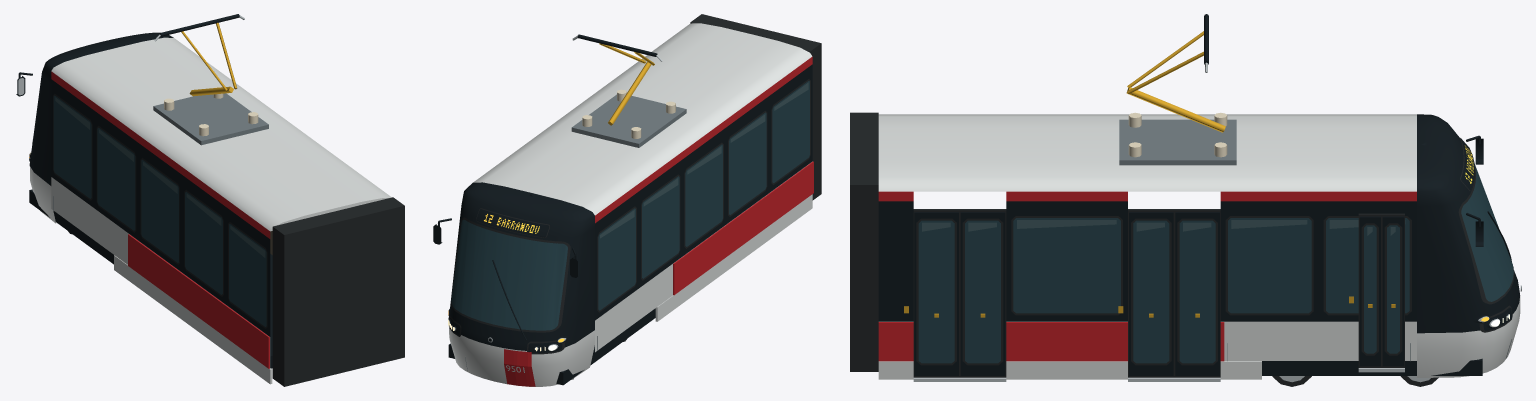
The model's file is 52t-a-viewer.glb.
The picture shows the model from 3 angles, left to right: view 1: azimuth 30°, elevation 25°; view 2: azimuth 150°, elevation 25°; view 3: azimuth 270°, elevation 25°; orthographic projection. The views are drawn at different scales.
Visible parts, largest first — view 1: 52t-a; view 2: 52t-a; view 3: 52t-a, 52t-a-door-1-3.360-0, 52t-a-door-1-0.350-0, 52t-a-door-1-0.350-1, 52t-a-door-1-3.360-1, 52t-a-door-1--2.560-0, 52t-a-door-1--2.560-1.
Boxes of the visible parts, x1,y1,x2,y2 form: 52t-a: [16, 14, 404, 386]; 52t-a: [433, 14, 821, 386]; 52t-a: [850, 14, 1521, 386]; 52t-a-door-1-3.360-0: [960, 212, 1005, 375]; 52t-a-door-1-0.350-0: [1175, 212, 1219, 375]; 52t-a-door-1-0.350-1: [1129, 212, 1173, 375]; 52t-a-door-1-3.360-1: [914, 212, 958, 375]; 52t-a-door-1--2.560-0: [1382, 216, 1404, 366]; 52t-a-door-1--2.560-1: [1359, 216, 1380, 366].
Bounding box in the file's own units: 2.9 × 5.01 × 9.42.
